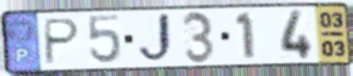1: (233, 11, 260, 61)
3: (181, 9, 216, 66)
4: (277, 8, 316, 62)
5: (87, 13, 124, 68)
J: (135, 11, 175, 66)
P: (42, 17, 83, 67)
